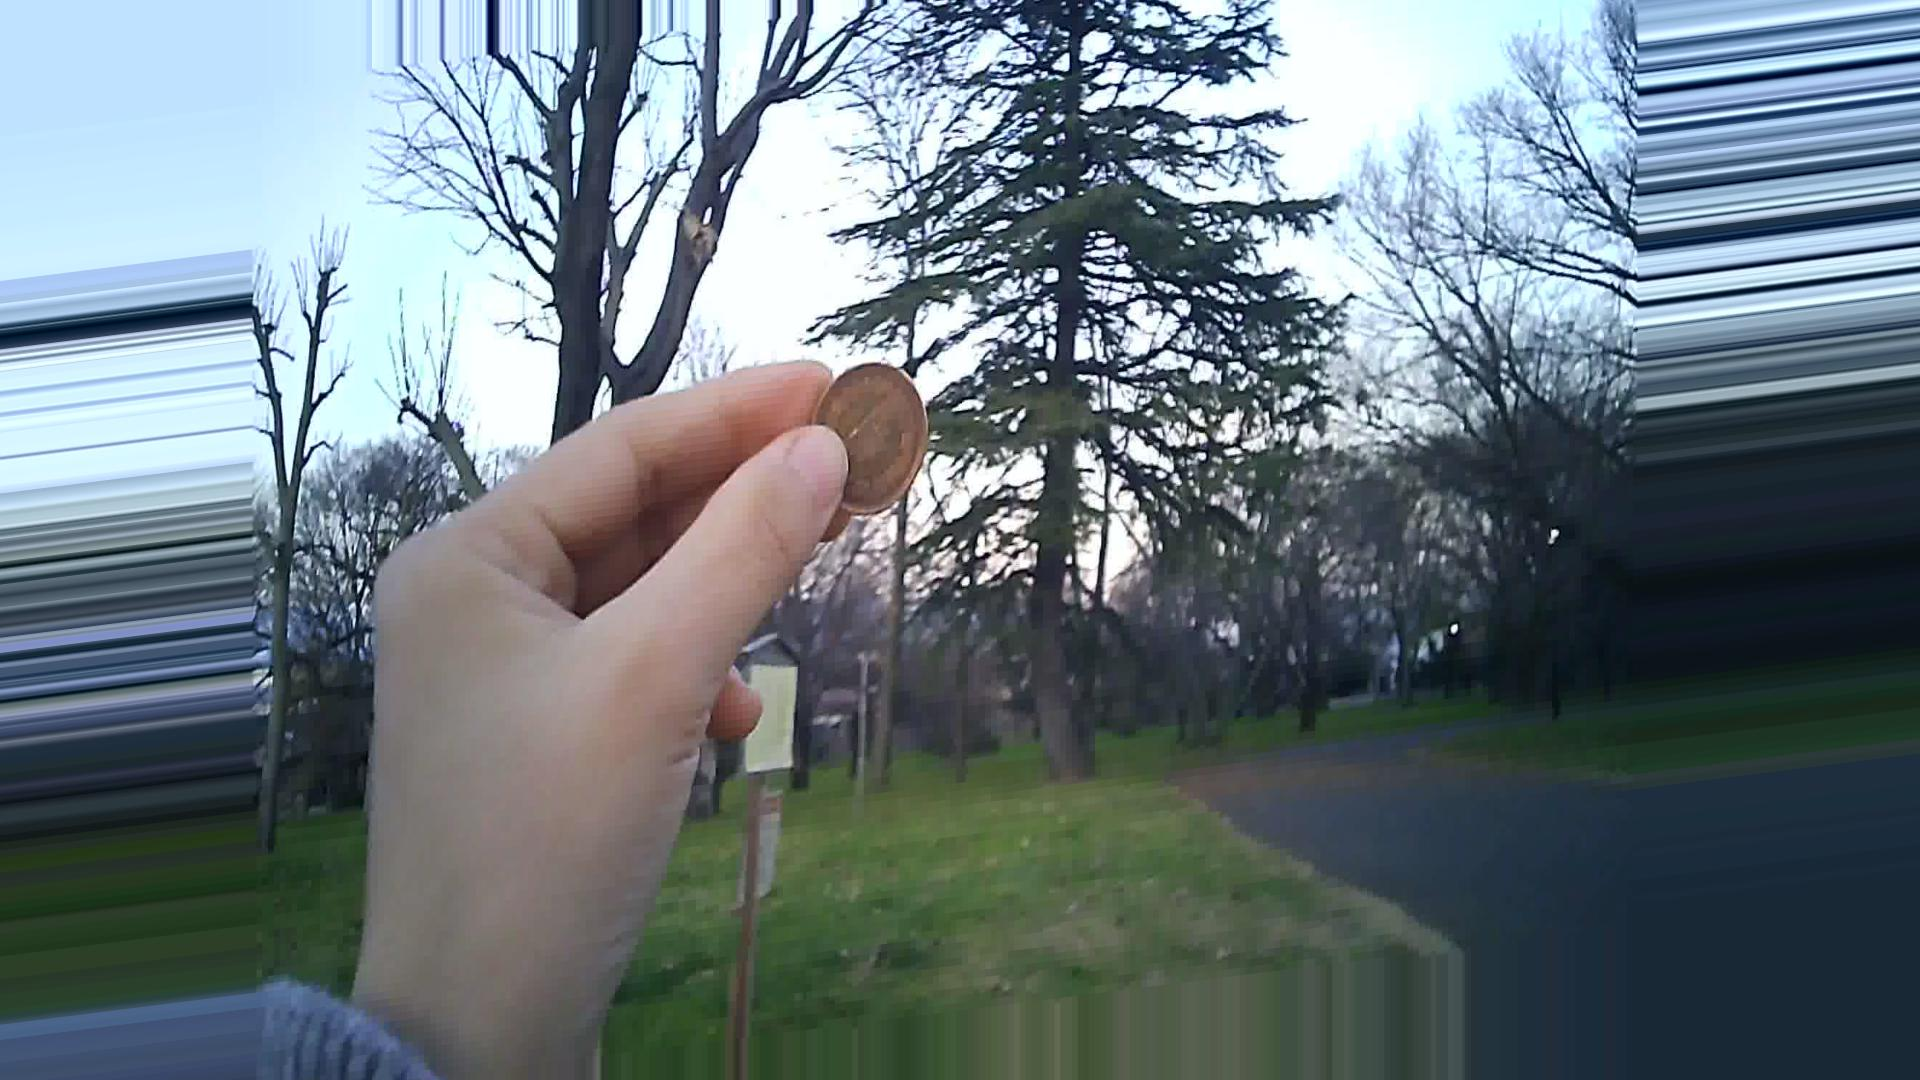10 Yen: (808, 363, 928, 516)
